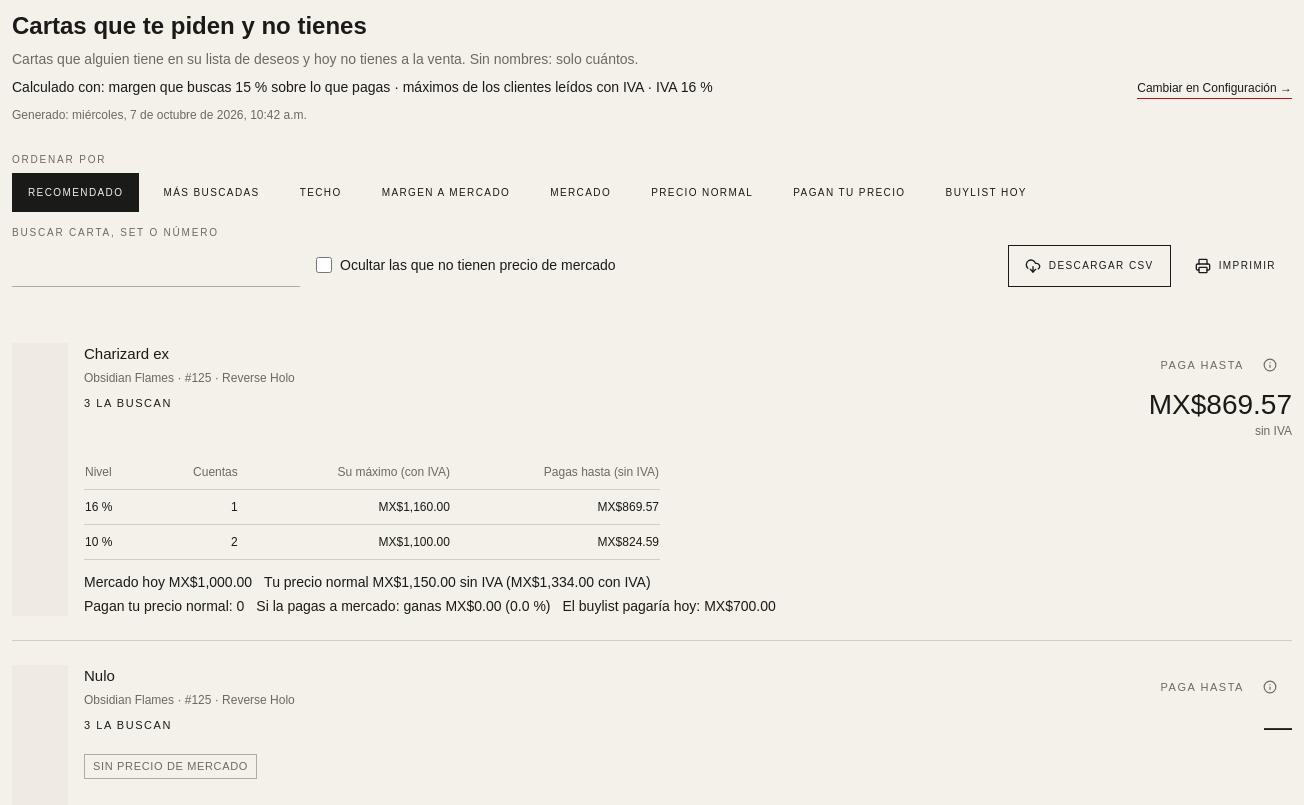
Scenario: §WSH-UX.7 · lista de compra (WSH-F4) › «Ocultar sin mercado» filtra en el navegador
The image size is (1304, 805).
Click the checkbox labelled "Ocultar las que no tienen precio de mercado" at coordinates (324, 265), box [316,257,332,273]
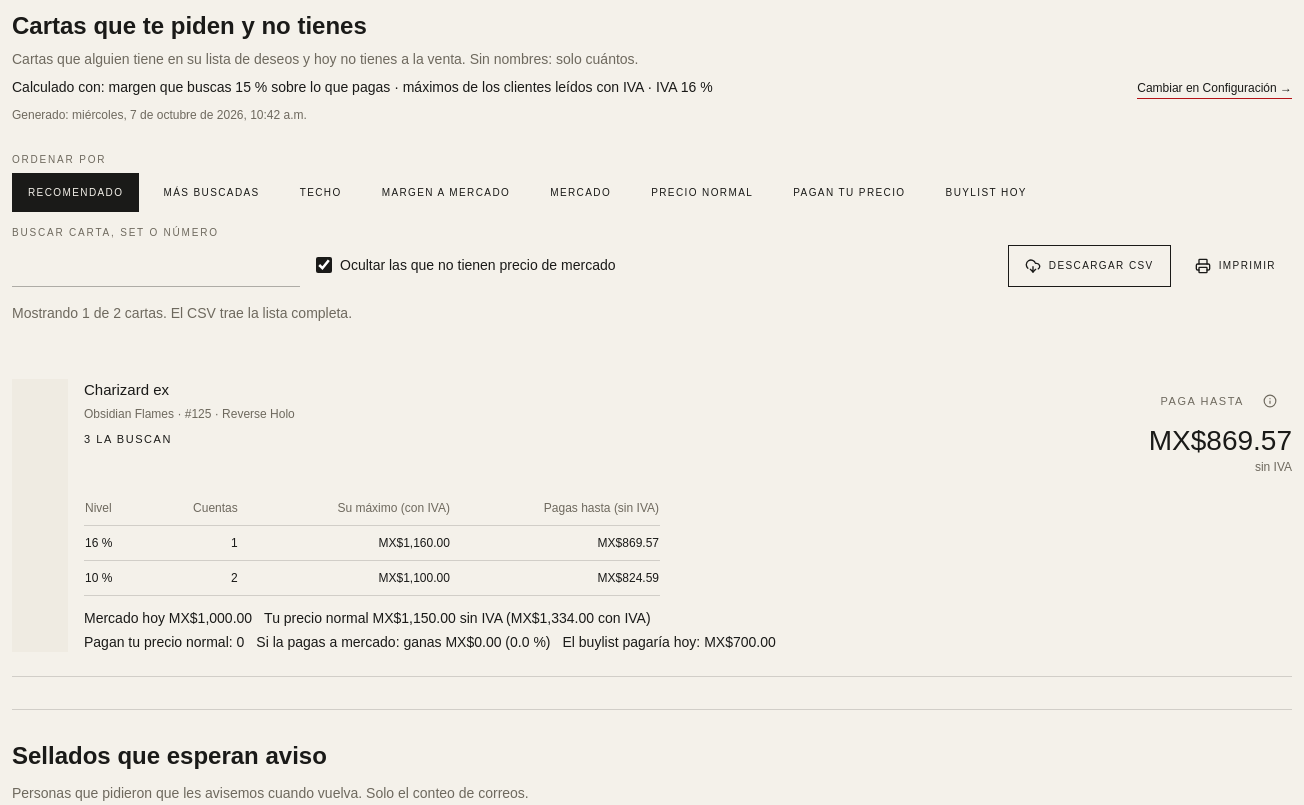
Expected: the heading "Nulo" is gone
